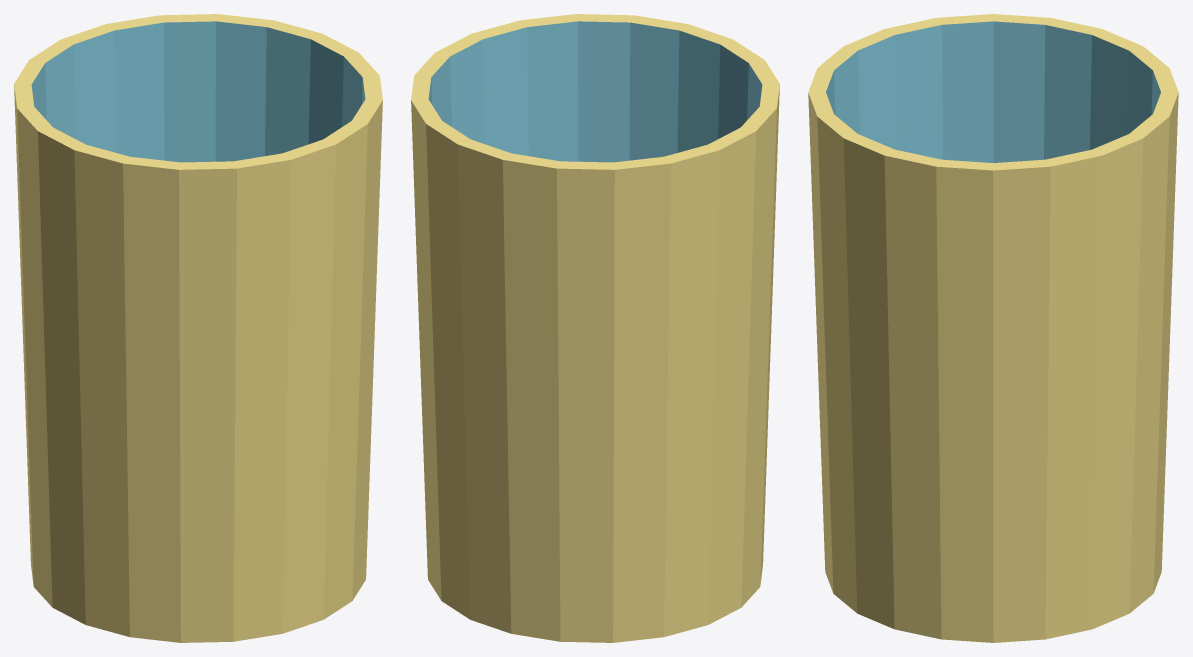
File: Cup 1.fbx
The picture shows the model from 3 angles, left to right: view 1: azimuth 30°, elevation 25°; view 2: azimuth 150°, elevation 25°; view 3: azimuth 270°, elevation 25°; orthographic projection.
Visible parts, largest first — view 1: Cup 1; view 2: Cup 1; view 3: Cup 1.
Boxes of the visible parts, x1,y1,x2,y2 form: Cup 1: (14, 14, 382, 642); Cup 1: (411, 14, 779, 642); Cup 1: (808, 14, 1178, 642).
Size of the model in its own units: 0.1007 by 0.1439 by 0.1007.
